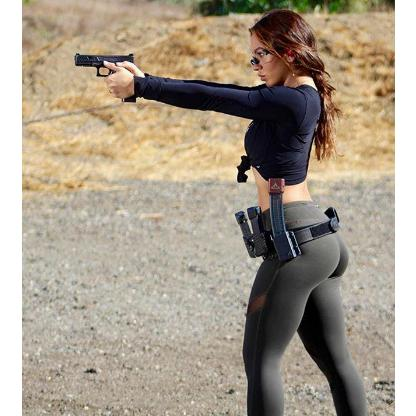gun: (72, 50, 134, 102)
